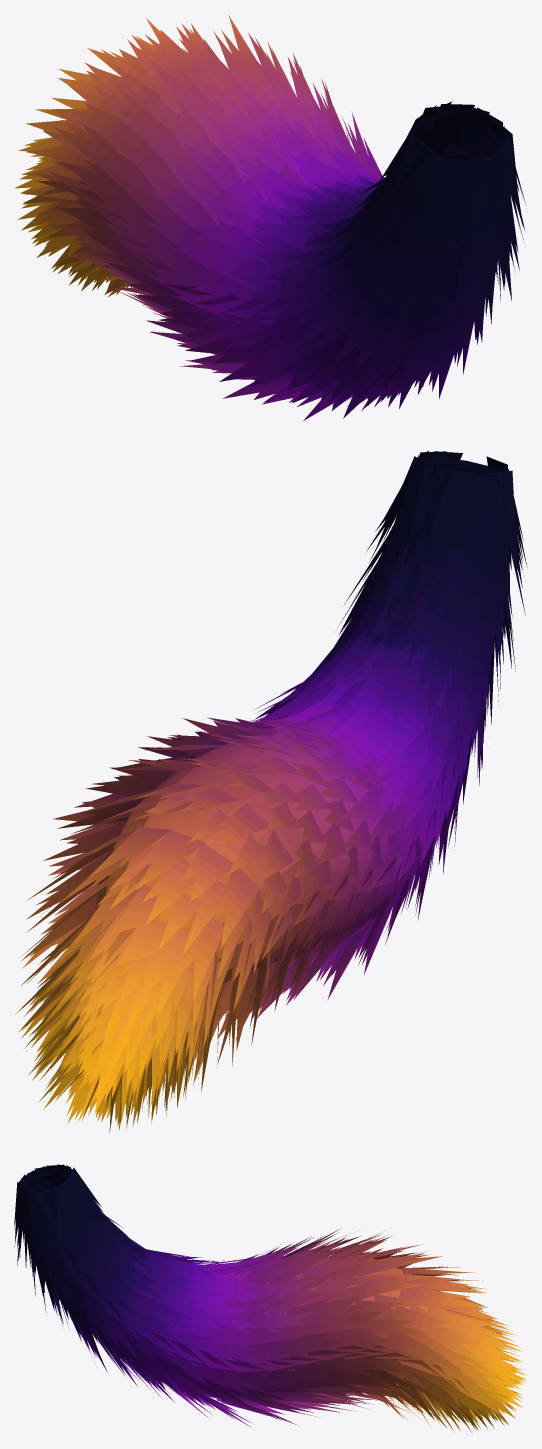
File: fluffytail-lite.glb
3 views of the same model, one above another, from view 1: azimuth 30°, elevation 25°; view 2: azimuth 150°, elevation 25°; view 3: azimuth 270°, elevation 25° (orthographic). The views are drawn at different scales.
Parts seen in each view (by area): view 1: fluffytail_0; view 2: fluffytail_0; view 3: fluffytail_0.
Boxes of the visible parts, x1=… form: fluffytail_0: x1=14, y1=15, x2=526, y2=420; fluffytail_0: x1=15, y1=450, x2=527, y2=1132; fluffytail_0: x1=14, y1=1164, x2=526, y2=1433.
Size of the model in its own units: 0.1976 by 0.3044 by 0.5524.
1 material, 1 textured.
